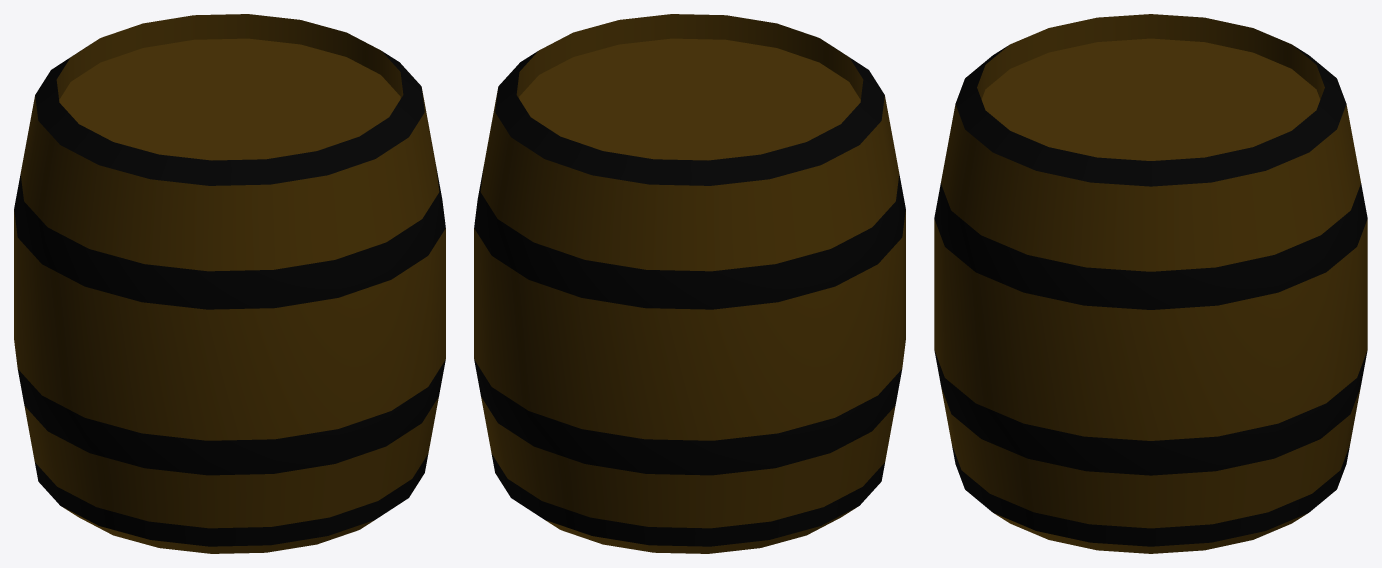
The model's file is Barrel.fbx.
3 views of the same model, side by side, from view 1: azimuth 30°, elevation 25°; view 2: azimuth 150°, elevation 25°; view 3: azimuth 270°, elevation 25° (orthographic).
Parts seen in each view (by area): view 1: pCylinder1; view 2: pCylinder1; view 3: pCylinder1.
Boxes of the visible parts, <box> form: pCylinder1: <box>14,14,445,553</box>; pCylinder1: <box>474,14,905,553</box>; pCylinder1: <box>934,14,1367,553</box>.
Bounding box in the file's own units: 2 × 2 × 2.
